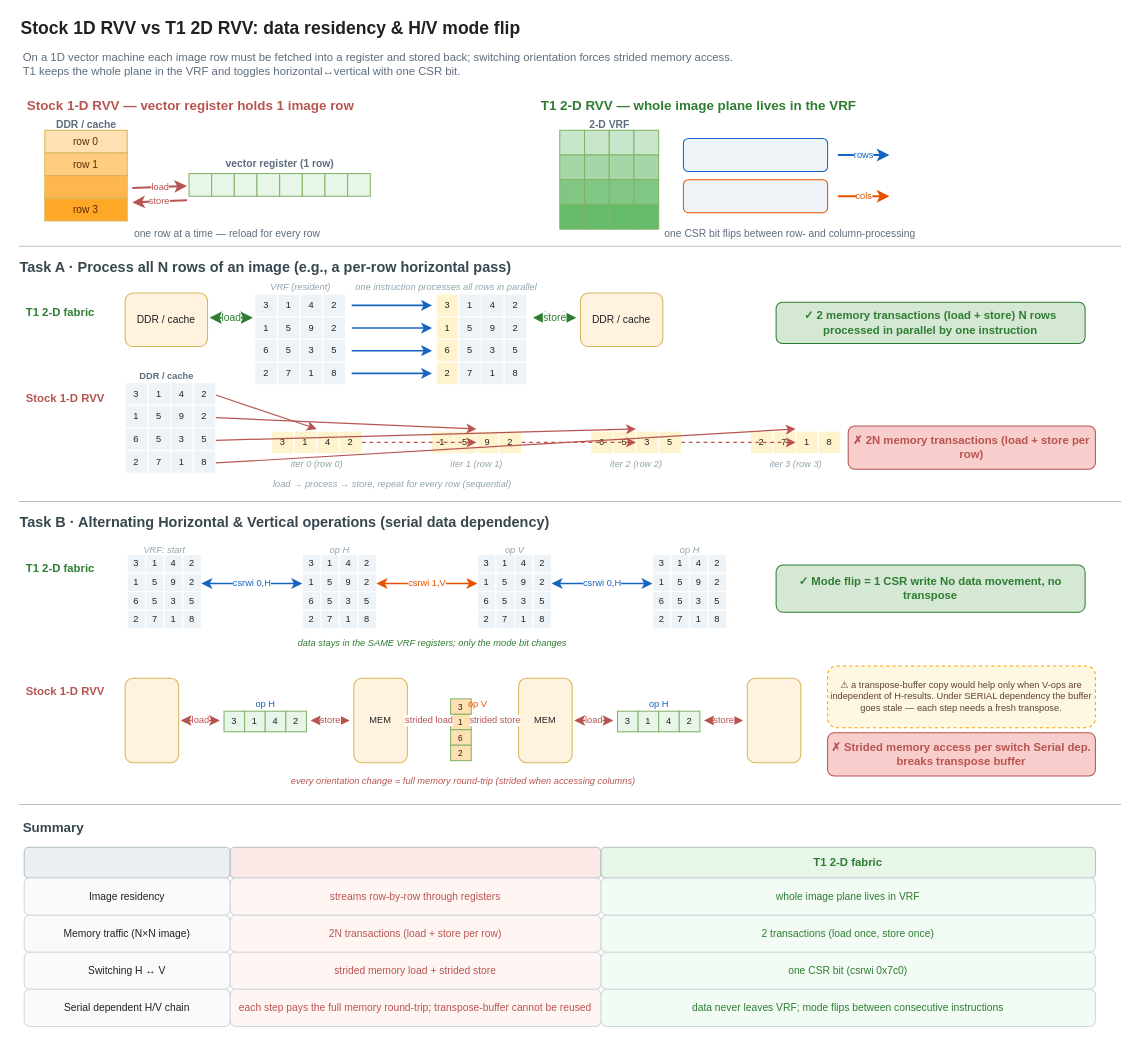
Some shapes in this 1140 by 1044 pixel diagram are drawn without their labels. The box of each missing label's shape, as (x1, y1, x2, y2) in pixels:
Aspect: (23, 846, 230, 878)
horizontal mode (H): (682, 138, 828, 171)
MEM end: (746, 677, 801, 763)
MEM start: (124, 677, 179, 763)
row 2: (44, 175, 127, 198)
Stock 1D RVV: (229, 846, 601, 878)
vertical mode (V): (682, 179, 828, 213)
